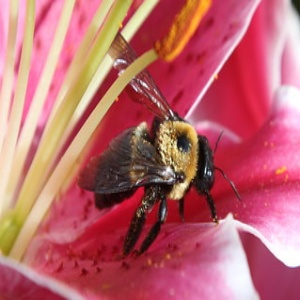bee: (78, 113, 241, 252)
